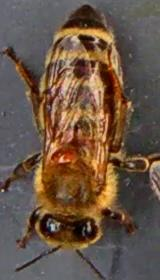varroa_mite: (50, 145, 87, 165)
